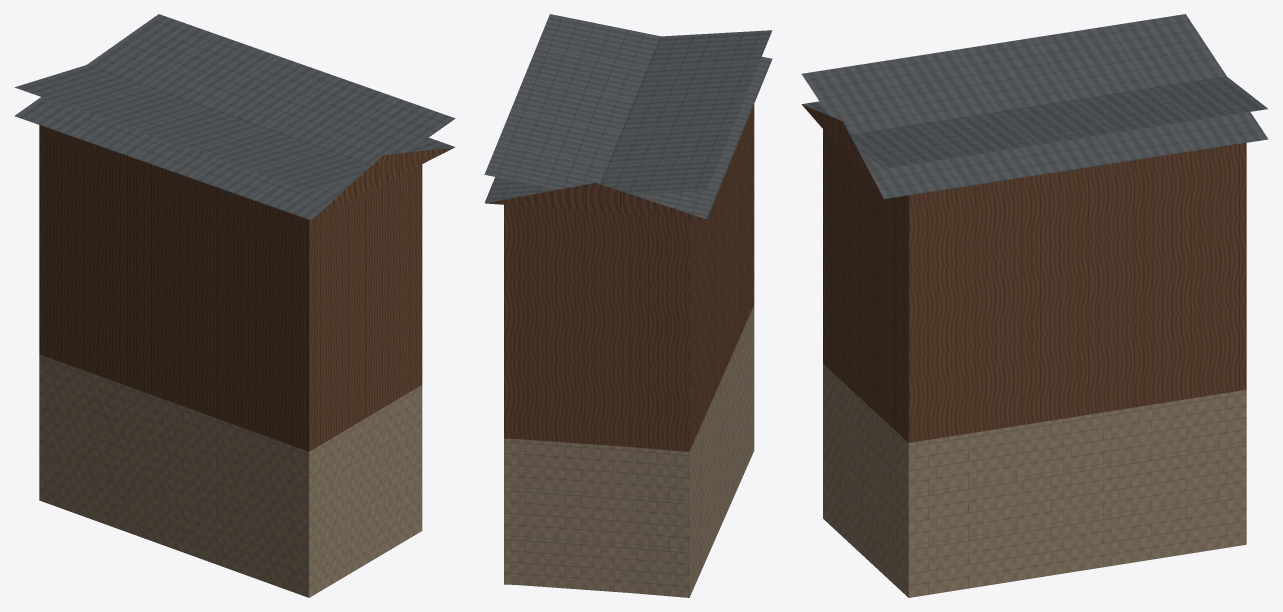
The model's file is bld_c-3_1_544.gltf.
3 renders of one model, left to right at view 1: azimuth 30°, elevation 25°; view 2: azimuth 150°, elevation 25°; view 3: azimuth 270°, elevation 25°, orthographic. The views are drawn at different scales.
Parts seen in each view (by area): view 1: bld_c-3_1_544; view 2: bld_c-3_1_544; view 3: bld_c-3_1_544.
Boxes of the visible parts, x1,y1,x2,y2 form: bld_c-3_1_544: [14, 14, 455, 597]; bld_c-3_1_544: [484, 14, 772, 597]; bld_c-3_1_544: [801, 14, 1267, 597].
Bounding box in the file's own units: 10.93 × 14.5 × 13.94.
Materials: 4 (4 with a texture image).
